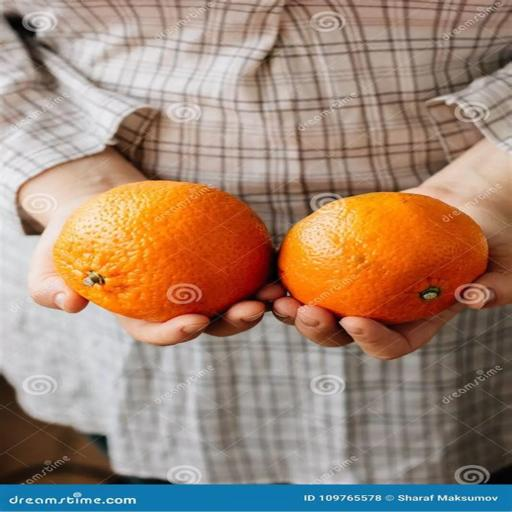orange: (54, 181, 272, 321), (279, 193, 488, 323)
